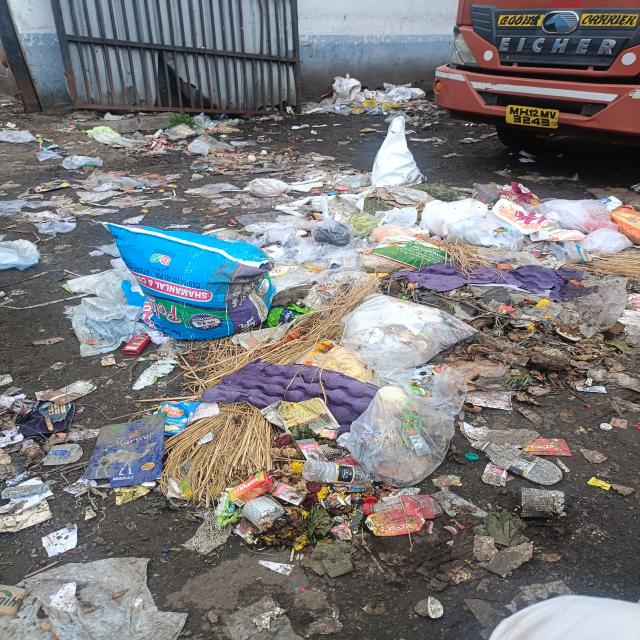garbage: (4, 183, 639, 555), (9, 105, 282, 172), (308, 77, 434, 120)
